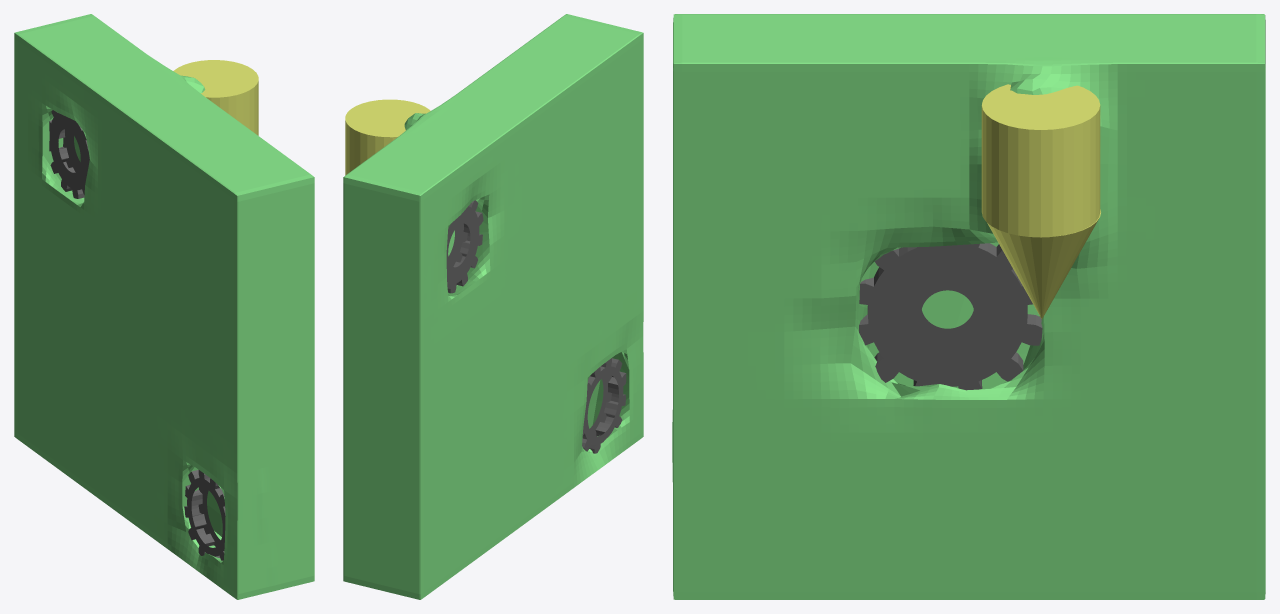
The model's file is WallHoneyDrop.fbx.
3 views of the same model, side by side, from view 1: azimuth 30°, elevation 25°; view 2: azimuth 150°, elevation 25°; view 3: azimuth 270°, elevation 25° (orthographic). The views are drawn at different scales.
Visible parts, largest first — view 1: Cube, Cone, Gear.002, Gear; view 2: Cube, Cone, Gear, Gear.002; view 3: Cube, Cone, Gear.003.
Boxes of the visible parts, x1=… form: Cube: x1=14, y1=14, x2=314, y2=599; Cone: x1=173, y1=60, x2=258, y2=135; Gear.002: x1=49, y1=110, x2=89, y2=198; Gear: x1=184, y1=469, x2=225, y2=560; Cube: x1=343, y1=14, x2=643, y2=599; Cone: x1=345, y1=99, x2=430, y2=175; Gear: x1=582, y1=358, x2=626, y2=453; Gear.002: x1=446, y1=200, x2=483, y2=293; Cube: x1=672, y1=14, x2=1265, y2=599; Cone: x1=981, y1=84, x2=1100, y2=318; Gear.003: x1=859, y1=243, x2=1042, y2=390.
Size of the model in its own units: 398 by 1001 by 1001.
